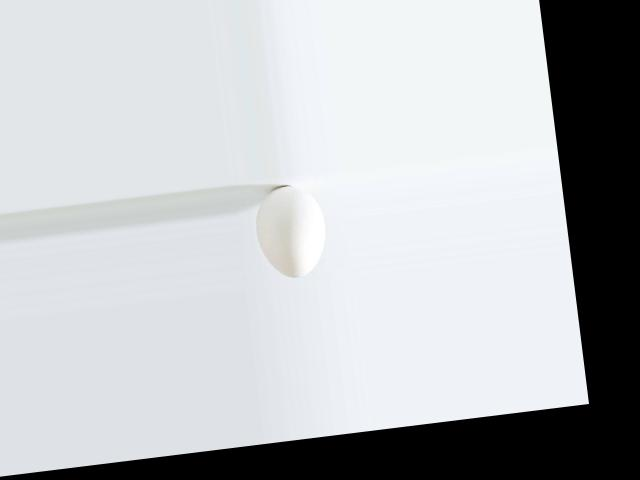egg: (252, 181, 331, 282)
